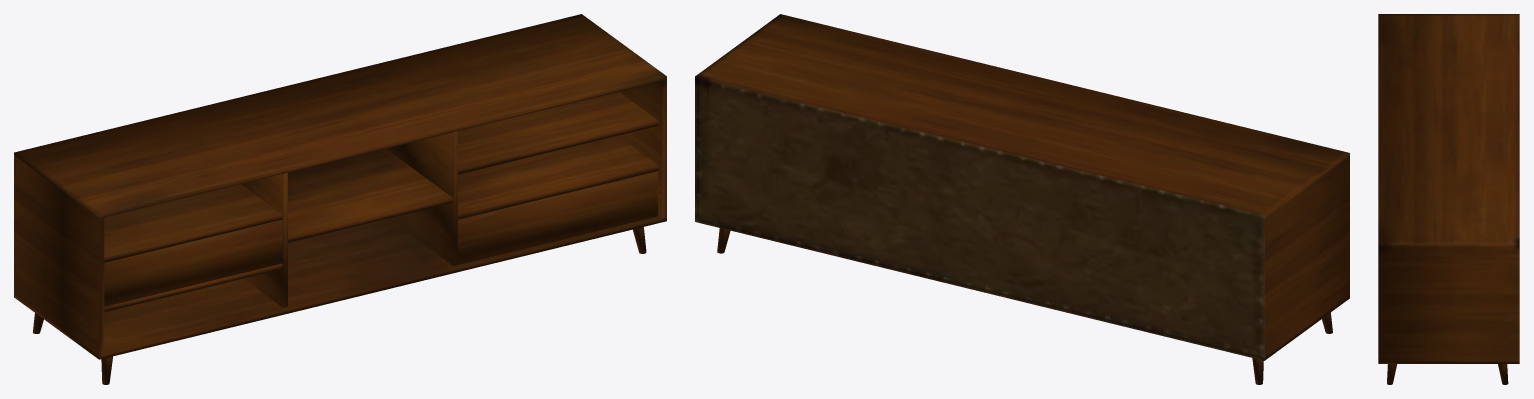
File: tv-stand-retro.glb
The picture shows the model from 3 angles, left to right: view 1: azimuth 30°, elevation 25°; view 2: azimuth 150°, elevation 25°; view 3: azimuth 270°, elevation 25°; orthographic projection. The views are drawn at different scales.
Visible parts, largest first — view 1: Object_2; view 2: Object_2; view 3: Object_2.
Part boxes in pixels (x1,y1,x2,y2): Object_2: (14,14,666,384); Object_2: (695,14,1349,384); Object_2: (1378,14,1519,384).
Bounding box in the file's own units: 1.84 × 0.55 × 0.4788.
Materials: 1 (1 with a texture image).
